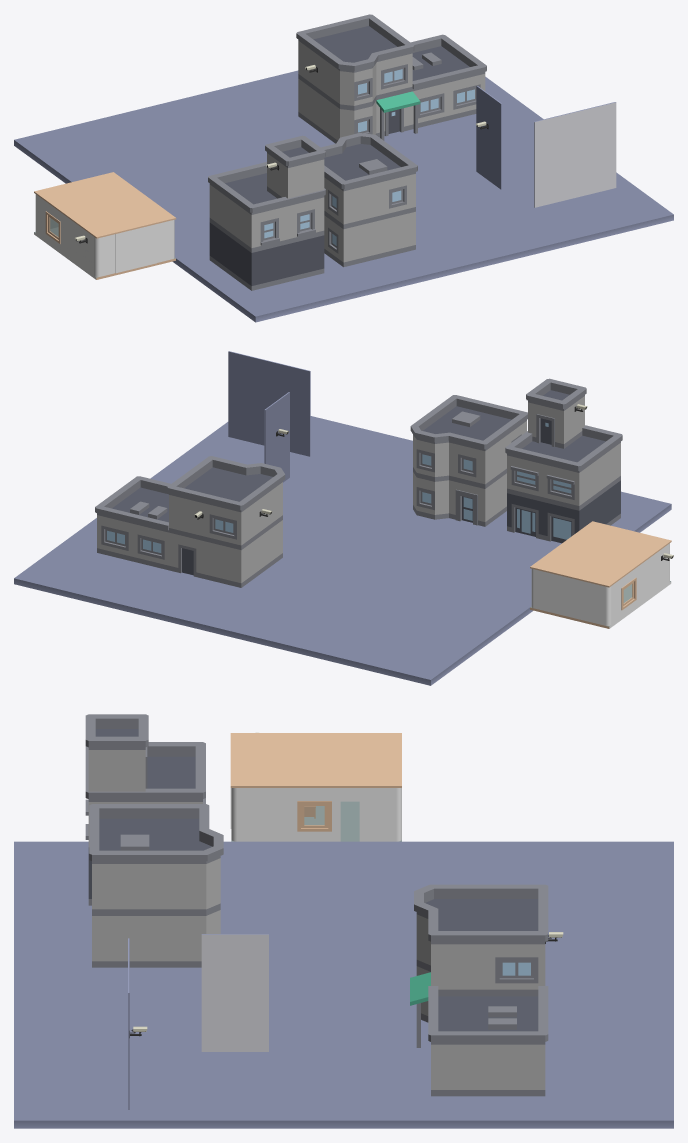
File: notbad3x.glb
The picture shows the model from 3 angles, top to bottom: view 1: azimuth 30°, elevation 25°; view 2: azimuth 150°, elevation 25°; view 3: azimuth 270°, elevation 25°; orthographic projection. The views are drawn at different scales.
Parts seen in each view (by area): view 1: floor, small_buildingE, small_buildingF, small_buildingB, floor.001, floorFull(Clone), floor.002, wallCornerRond(Clone), wall(Clone).001, wallWindow(Clone).001, wallCornerRond(Clone).005, Floor.002; view 2: floor, small_buildingE, small_buildingF, small_buildingB, floor.001, floorFull(Clone), wallCornerRond(Clone).002, floor.002, wallWindow(Clone).001, wallCornerRond(Clone), wallCornerRond(Clone).007, Floor.002; view 3: floor, small_buildingE, small_buildingB, small_buildingF, floorFull(Clone), floor.002, wallWindow(Clone), wallCornerRond(Clone).005, wallCornerRond(Clone).007, Floor.002, window.
Boxes of the visible parts, x1,y1,x2,y2 form: floor: [14, 70, 673, 322]; small_buildingE: [296, 14, 486, 143]; small_buildingF: [208, 135, 325, 290]; small_buildingB: [321, 133, 417, 267]; floor.001: [534, 102, 616, 207]; floorFull(Clone): [34, 172, 176, 238]; floor.002: [476, 86, 501, 189]; wallCornerRond(Clone): [71, 221, 115, 277]; wall(Clone).001: [115, 224, 156, 273]; wallWindow(Clone).001: [44, 200, 71, 259]; wallCornerRond(Clone).005: [157, 220, 174, 262]; Floor.002: [34, 227, 175, 279]; floor: [14, 416, 671, 685]; small_buildingE: [95, 456, 285, 587]; small_buildingF: [505, 378, 622, 543]; small_buildingB: [410, 395, 527, 526]; floor.001: [228, 351, 310, 456]; floorFull(Clone): [530, 521, 671, 587]; wallCornerRond(Clone).002: [549, 573, 619, 625]; floor.002: [264, 392, 289, 482]; wallWindow(Clone).001: [619, 560, 646, 618]; wallCornerRond(Clone): [646, 543, 669, 598]; wallCornerRond(Clone).007: [531, 569, 548, 611]; Floor.002: [530, 581, 671, 628]; floor: [14, 841, 673, 1128]; small_buildingE: [410, 884, 548, 1096]; small_buildingB: [89, 804, 223, 967]; small_buildingF: [85, 714, 205, 905]; floorFull(Clone): [230, 733, 401, 787]; floor.002: [201, 934, 268, 1051]; wallWindow(Clone): [279, 788, 340, 841]; wallCornerRond(Clone).005: [231, 788, 278, 841]; wallCornerRond(Clone).007: [359, 788, 401, 841]; Floor.002: [231, 801, 401, 841]; window: [301, 804, 328, 828].
Bounding box in the file's own units: 73.02 × 17.45 × 60.
48 materials, 3 textured.
